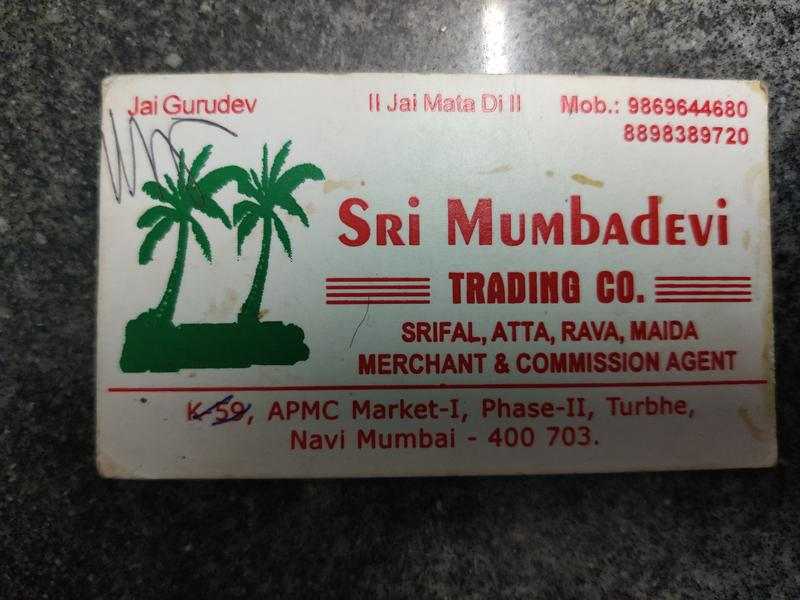card: (95, 71, 778, 475)
